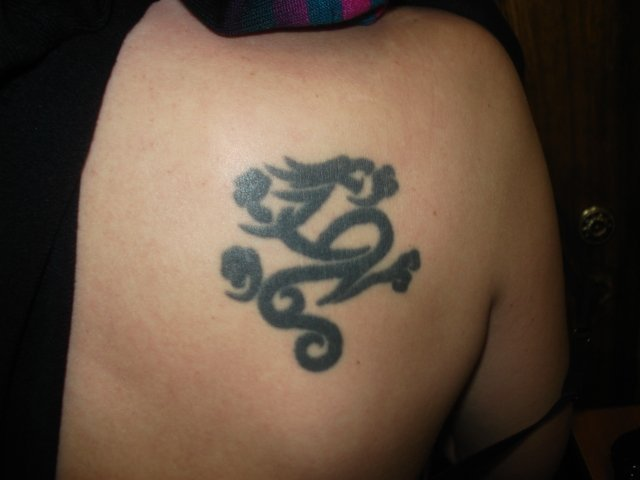tatu6_drakon: (208, 151, 431, 386)
